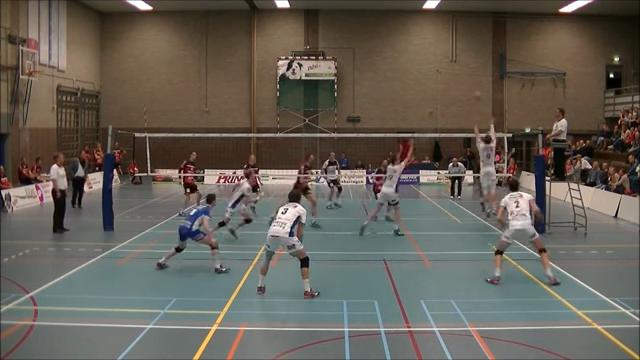Block: (466, 116, 503, 217)
Player: (486, 178, 559, 284), (257, 189, 319, 298), (156, 194, 228, 273), (359, 141, 413, 235), (213, 170, 254, 238), (293, 154, 316, 217), (179, 152, 200, 214), (322, 152, 342, 208), (243, 154, 261, 214), (372, 159, 387, 199)
ball: (473, 91, 481, 103)
